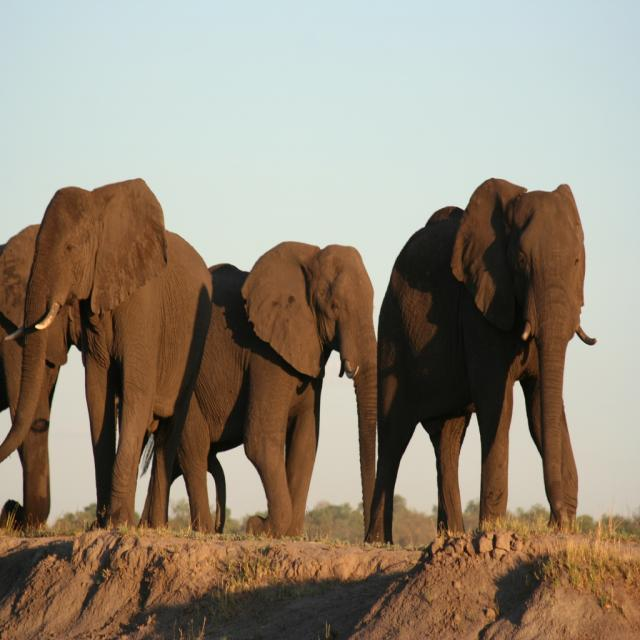elephant: (365, 172, 604, 548), (0, 172, 233, 542), (134, 248, 402, 549), (1, 222, 76, 524)
